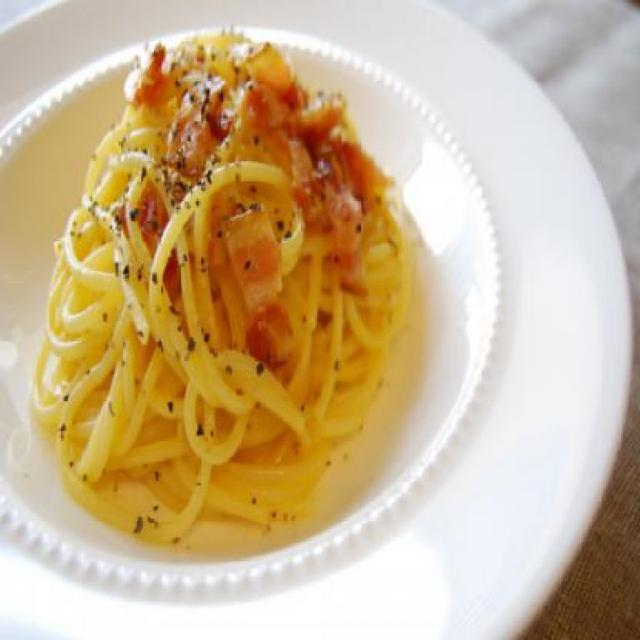Pasta with carbonara sauce: (38, 8, 474, 550)
